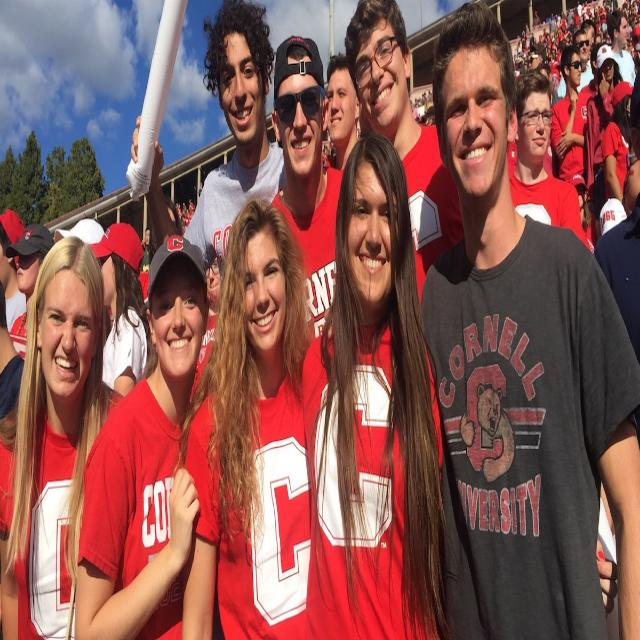body: (421, 0, 639, 640), (294, 124, 454, 639), (180, 194, 318, 639), (71, 224, 212, 640), (0, 233, 129, 638), (129, 0, 288, 279), (344, 0, 466, 316), (264, 29, 352, 348), (137, 189, 226, 410), (509, 67, 590, 246), (568, 158, 639, 362), (0, 206, 61, 428), (504, 0, 640, 88), (86, 220, 151, 398), (585, 42, 624, 240), (549, 43, 596, 183), (594, 444, 629, 622), (325, 50, 362, 176), (600, 78, 634, 205), (604, 8, 637, 87), (60, 216, 106, 250), (408, 80, 438, 132), (575, 86, 600, 138), (319, 128, 338, 183), (630, 86, 640, 158), (547, 86, 566, 113), (354, 111, 363, 140)
